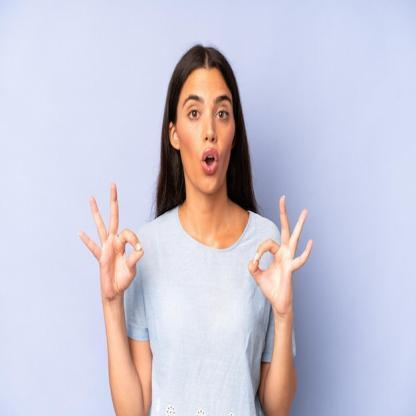ok: (76, 179, 144, 301), (246, 191, 314, 312)
